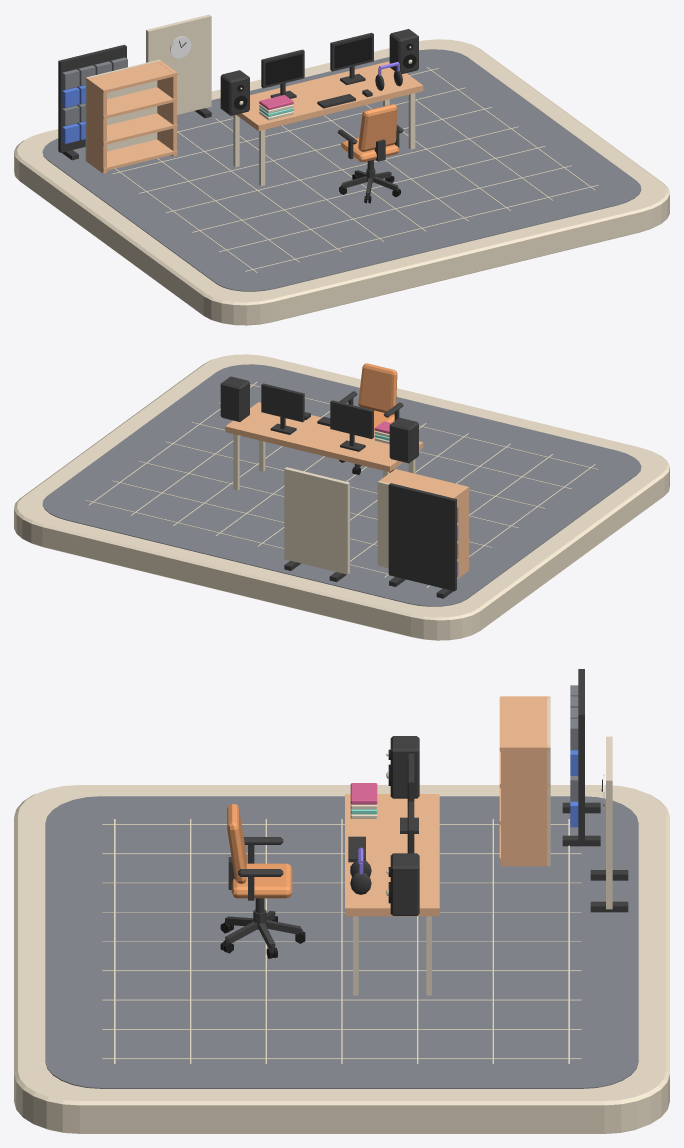
Rendered from room.fbx.
3 views of the same model, one above another, from view 1: azimuth 30°, elevation 25°; view 2: azimuth 150°, elevation 25°; view 3: azimuth 270°, elevation 25° (orthographic). The views are drawn at different scales.
Parts seen in each view (by area): view 1: COM-02 Floor Surface, COM-01 Rounded Base Direct, Top, Panel.001, COM-04_Chair_blender_direct, Panel, Side, Frame.001, Frame, Back, Shelf.003, Shelf (+9 smaller); view 2: COM-02 Floor Surface, COM-01 Rounded Base Direct, Panel, Panel.001, Top, COM-04_Chair_blender_direct, Frame.001, Frame, Enclosure, Enclosure.001, Shelf.003, Back (+1 smaller); view 3: COM-02 Floor Surface, COM-01 Rounded Base Direct, Top, COM-04_Chair_blender_direct, Side.001, Shelf.003, Enclosure.001, Enclosure, Panel, Panel.001, Grout X.006, Grout X.008 (+2 smaller).
Boxes of the visible parts, bbox=[...] form: COM-02 Floor Surface: bbox=[42, 49, 641, 291]; COM-01 Rounded Base Direct: bbox=[14, 39, 669, 325]; Top: bbox=[233, 61, 423, 185]; Panel.001: bbox=[146, 14, 211, 114]; COM-04_Chair_blender_direct: bbox=[337, 104, 403, 203]; Panel: bbox=[58, 44, 126, 152]; Side: bbox=[87, 77, 106, 173]; Frame.001: bbox=[330, 32, 373, 85]; Frame: bbox=[261, 49, 304, 98]; Back: bbox=[85, 59, 160, 161]; Shelf.003: bbox=[86, 61, 177, 93]; Shelf: bbox=[86, 139, 177, 171]; COM-02 Floor Surface: bbox=[42, 364, 641, 606]; COM-01 Rounded Base Direct: bbox=[14, 354, 669, 640]; Panel: bbox=[388, 483, 456, 591]; Panel.001: bbox=[284, 467, 349, 574]; Top: bbox=[225, 402, 423, 490]; COM-04_Chair_blender_direct: bbox=[339, 363, 403, 474]; Frame.001: bbox=[261, 383, 304, 434]; Frame: bbox=[330, 400, 373, 451]; Enclosure: bbox=[389, 417, 418, 463]; Enclosure.001: bbox=[220, 376, 249, 421]; Shelf.003: bbox=[383, 469, 469, 498]; Back: bbox=[377, 481, 389, 568]; COM-02 Floor Surface: bbox=[45, 796, 638, 1088]; COM-01 Rounded Base Direct: bbox=[14, 785, 669, 1133]; Top: bbox=[345, 794, 439, 995]; COM-04_Chair_blender_direct: bbox=[220, 804, 305, 958]; Side.001: bbox=[501, 745, 548, 866]; Shelf.003: bbox=[499, 696, 549, 751]; Enclosure.001: bbox=[390, 853, 419, 915]; Enclosure: bbox=[390, 736, 419, 798]; Panel: bbox=[578, 669, 584, 843]; Panel.001: bbox=[606, 736, 612, 909]; Grout X.006: bbox=[102, 999, 581, 1000]; Grout X.008: bbox=[102, 1058, 581, 1059].
Size of the model in its own units: 600 by 161 by 520.
